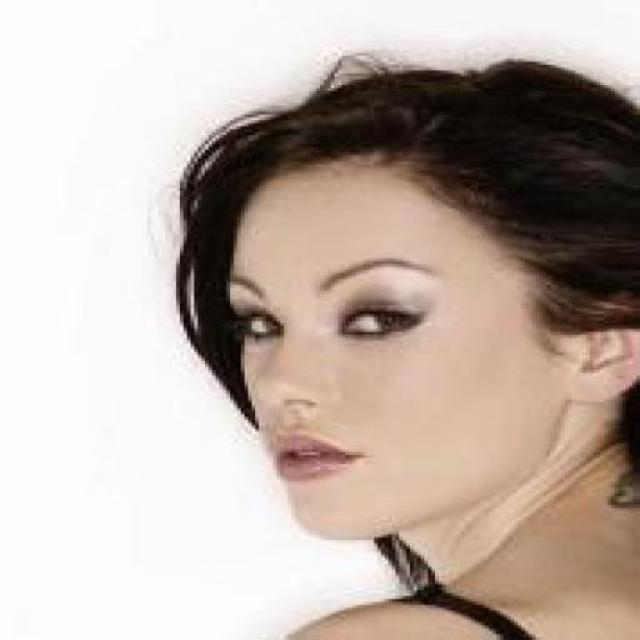bareface: (155, 127, 536, 547)
